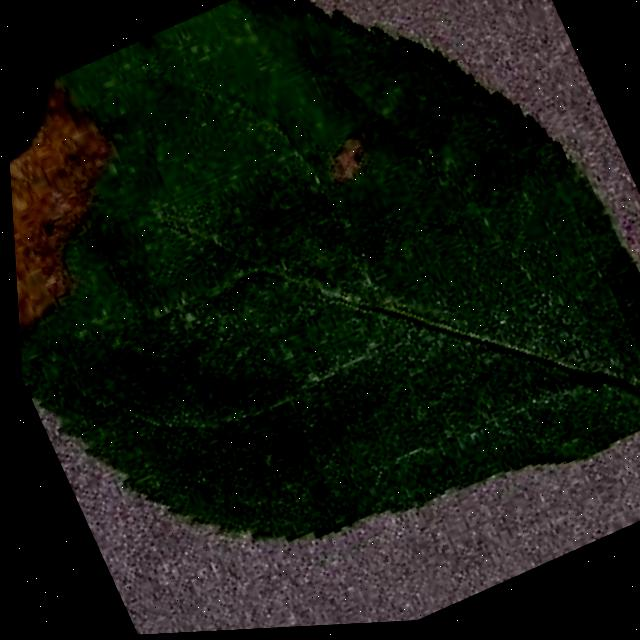black_rot: (5, 68, 200, 360), (290, 106, 407, 207)
